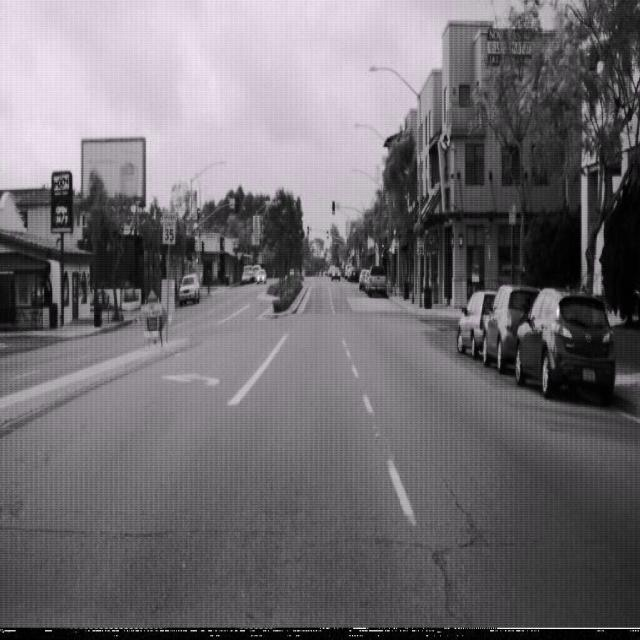speedLimit35: (162, 207, 176, 245), (416, 236, 424, 256)
